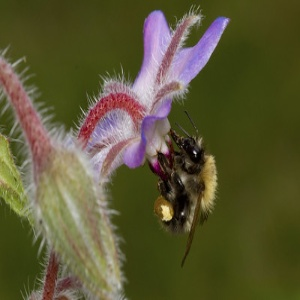bee: (157, 127, 219, 264)
